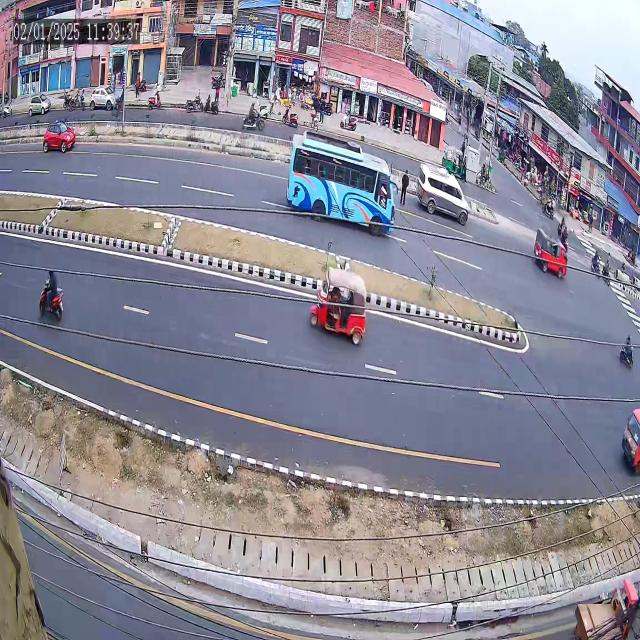auto: (303, 255, 374, 358)
bus: (284, 131, 398, 243)
car: (36, 116, 79, 161)
motorcycle: (31, 256, 70, 328), (612, 319, 636, 373)
van: (415, 153, 470, 231), (529, 222, 569, 286)
